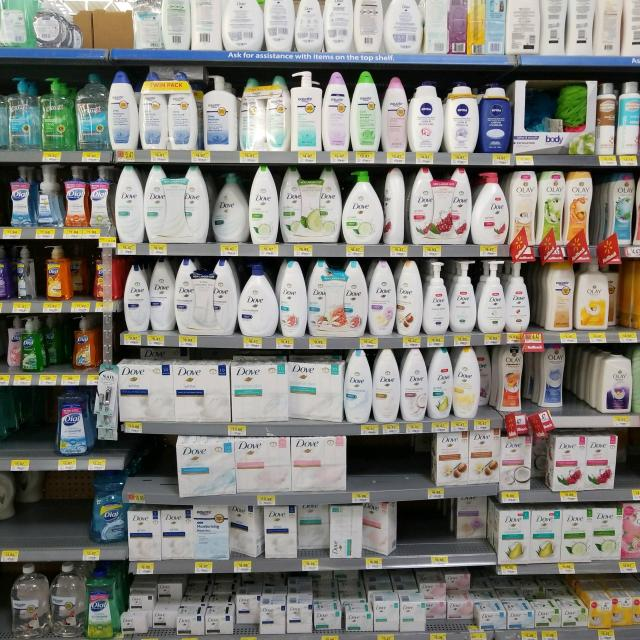void: (0, 470, 46, 560), (48, 473, 88, 562), (404, 499, 452, 566), (128, 436, 173, 505), (348, 436, 391, 504), (393, 435, 435, 503), (0, 388, 28, 472), (29, 386, 54, 474)
